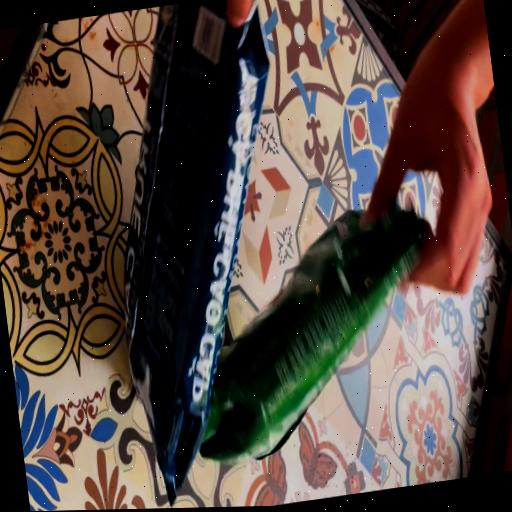cafe_hat: (124, 0, 268, 504)
cafe_xay: (200, 210, 423, 464)
